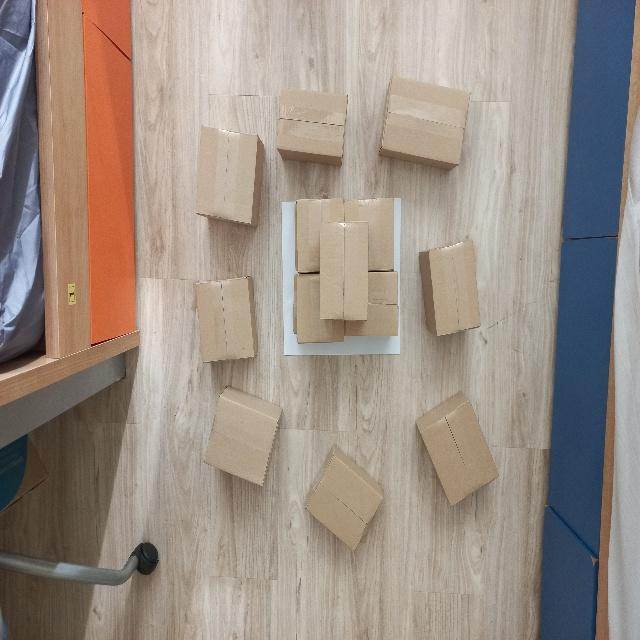box: (408, 390, 501, 510), (377, 75, 473, 173), (300, 447, 387, 553), (202, 385, 285, 491), (189, 122, 266, 231), (417, 236, 487, 342), (272, 85, 351, 170), (189, 275, 260, 367), (319, 222, 371, 322)
